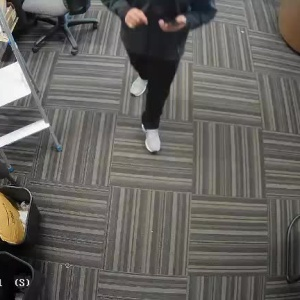person: (119, 0, 205, 150)
